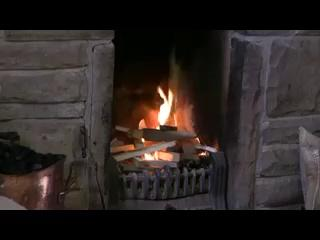Fire: (143, 86, 180, 131)
